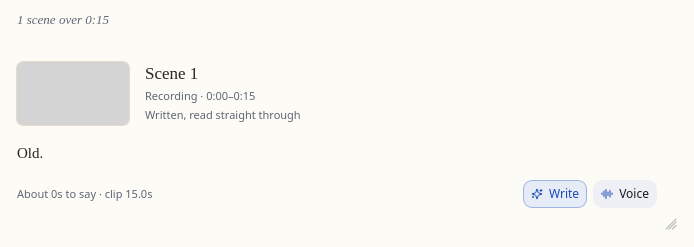
keeping what is written › saves after a pause in typing, not only on leaving the box
The width and height of the screenshot is (694, 247).
Type " More." into the text box named "Narration for scene 1" at (337, 153), box [17,140,657,166]
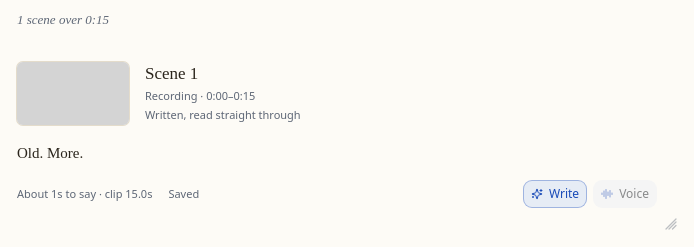
Result: the text "Saved" is shown at [168,186,199,202]
